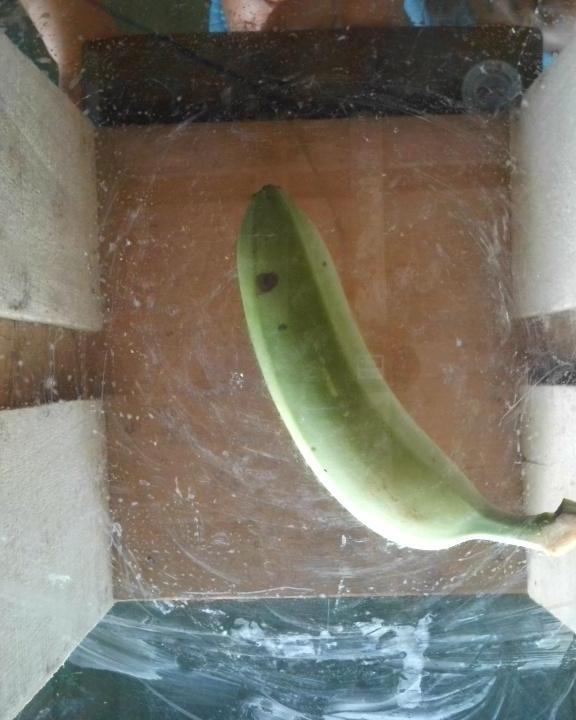CLASS B: (231, 179, 576, 577)
Class A: (248, 263, 290, 297)
